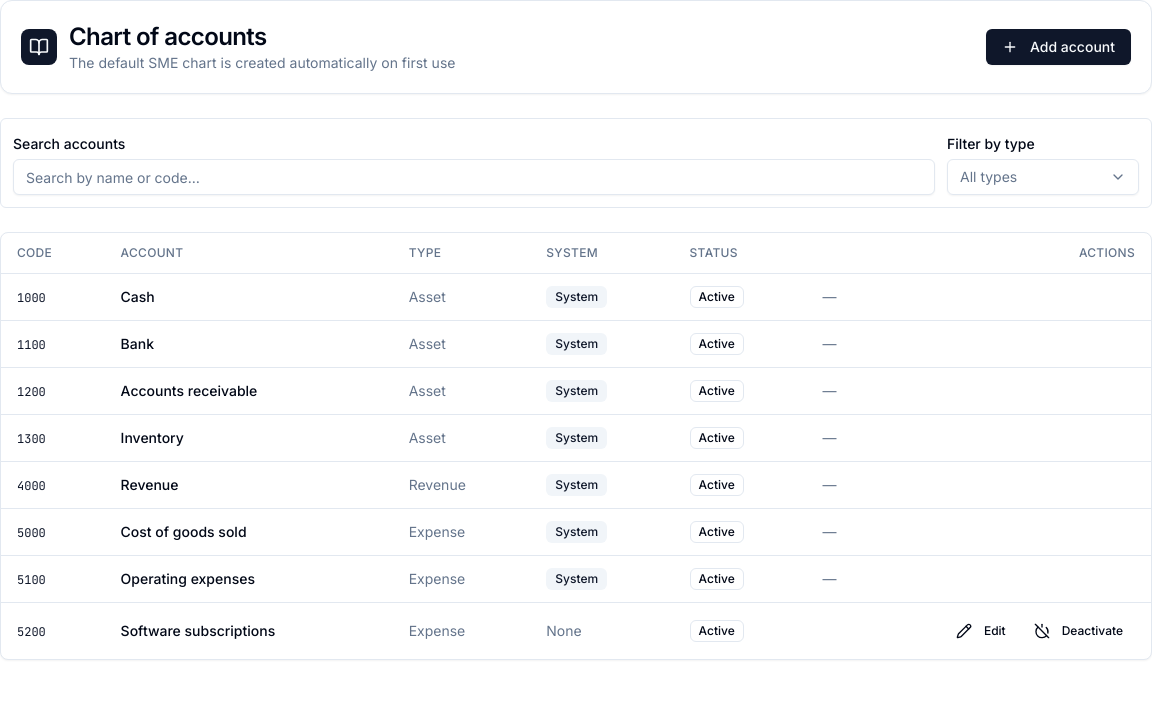
Scenario: ChartOfAccountsView — search + type filter › filters accounts by type via the Type select
Click the dropdown named "Filter by type": x=1043, y=177 [947,159,1139,195]
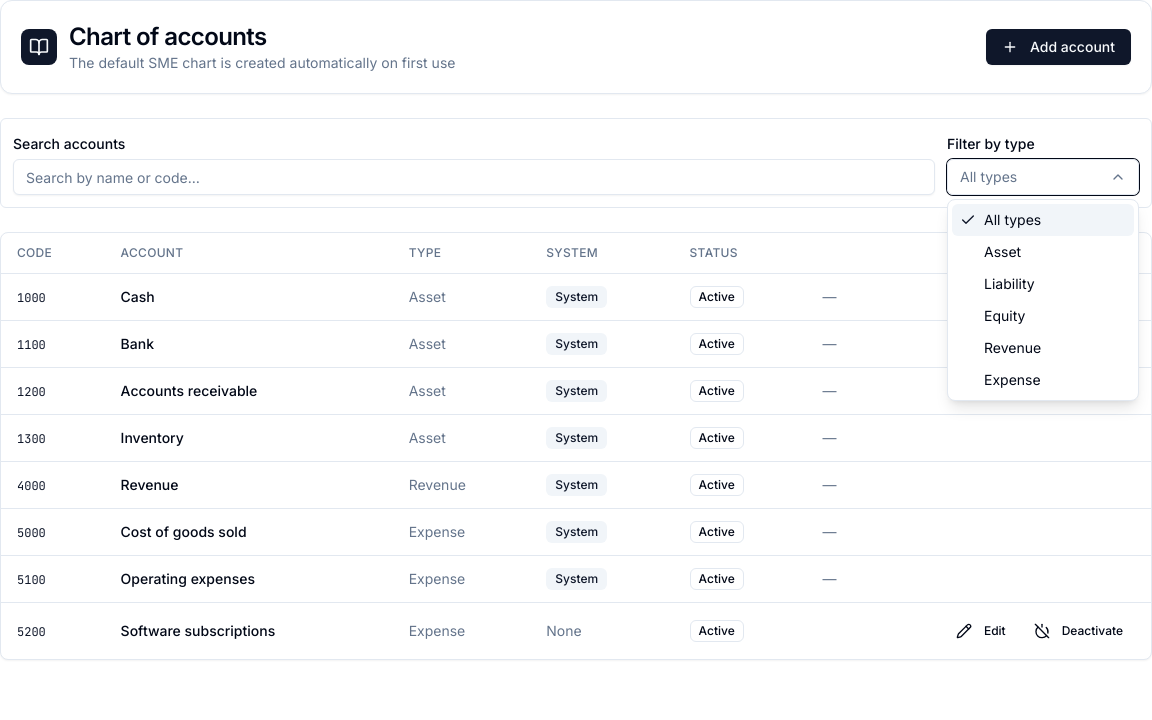
Click the option "Expense": x=1043, y=380 [952,364,1134,396]
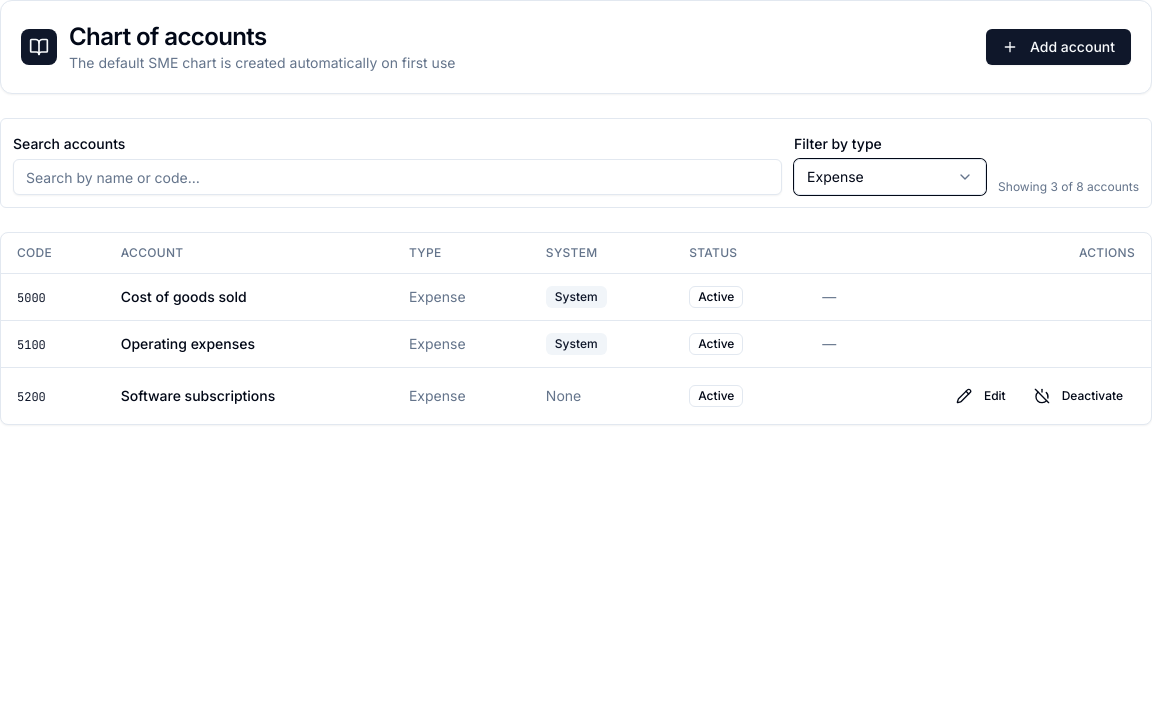
Expected: the link "Cost of goods sold" is shown, [121,288,247,305]
Expected: the link "Bank" is gone
